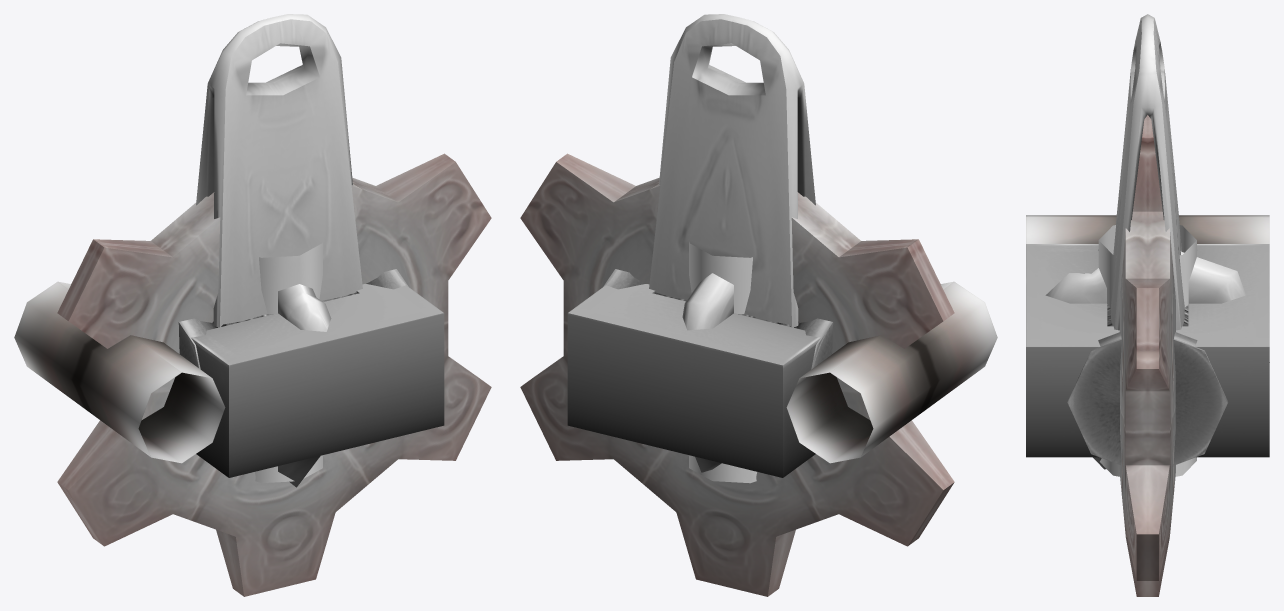
Rendered from obstcales3.fbx.
3 views of the same model, side by side, from view 1: azimuth 30°, elevation 25°; view 2: azimuth 150°, elevation 25°; view 3: azimuth 270°, elevation 25° (orthographic). The views are drawn at different scales.
Parts seen in each view (by area): view 1: Gear.002, Pyramid007.001, Broken Platform.004, Broken Platform.005, Cylinder.008, Circle.002, Cylinder.006; view 2: Gear.002, Pyramid007.001, Broken Platform.004, Broken Platform.005, Cylinder.008, Circle.002, Cylinder.006; view 3: Broken Platform.004, Gear.002, Cylinder.006, Pyramid007.001, Broken Platform.005, Circle.002, Cylinder.008.
Boxes of the visible parts, box(x1,y1,x2,y2) form: Gear.002: box(57, 153, 491, 596); Pyramid007.001: box(196, 14, 362, 327); Broken Platform.004: box(191, 284, 444, 477); Broken Platform.005: box(14, 281, 225, 463); Cylinder.008: box(255, 242, 322, 483); Circle.002: box(278, 284, 331, 487); Cylinder.006: box(178, 269, 408, 369); Gear.002: box(520, 153, 954, 596); Pyramid007.001: box(649, 14, 815, 327); Broken Platform.004: box(567, 284, 820, 477); Broken Platform.005: box(786, 281, 997, 463); Cylinder.008: box(689, 242, 756, 483); Circle.002: box(675, 273, 733, 472); Cylinder.006: box(603, 269, 833, 369); Broken Platform.004: box(1026, 244, 1269, 457); Gear.002: box(1119, 115, 1175, 596); Cylinder.006: box(1067, 249, 1227, 465); Pyramid007.001: box(1110, 14, 1184, 330); Broken Platform.005: box(1026, 215, 1269, 243); Circle.002: box(1045, 251, 1269, 469); Cylinder.008: box(1098, 225, 1196, 476).
Bounding box in the file's own units: 197 × 252 × 100.
